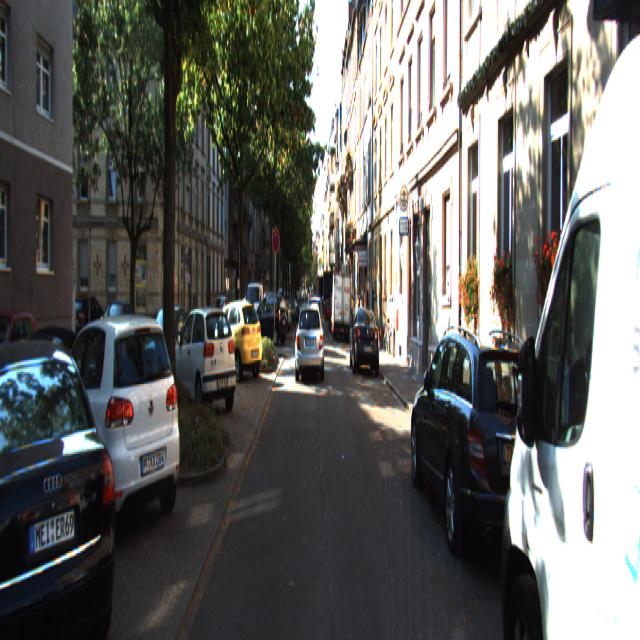Car: (412, 319, 568, 596), (0, 329, 130, 638), (46, 309, 187, 558), (165, 308, 239, 421), (207, 300, 266, 386), (0, 310, 44, 405), (142, 305, 189, 382), (91, 302, 140, 364), (349, 306, 381, 378), (296, 302, 324, 381), (249, 293, 288, 348), (305, 297, 324, 356)
DontCare: (499, 9, 639, 637)
Van: (331, 272, 351, 340)
